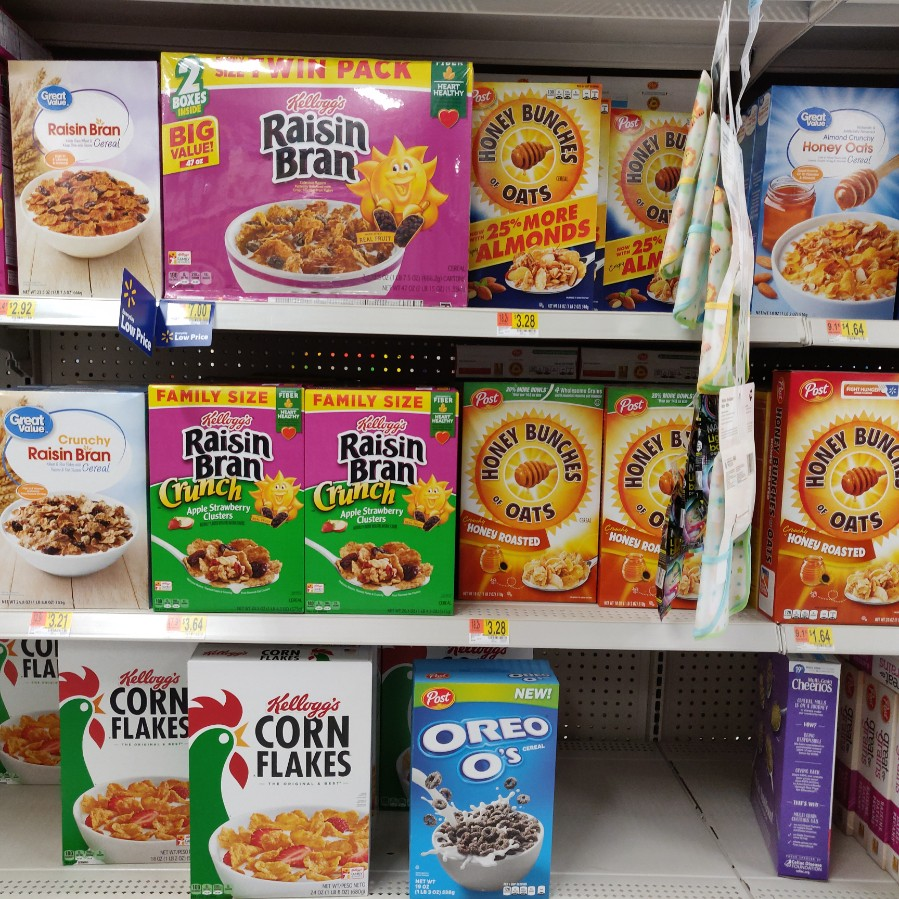Oreo-563424384: (403, 663, 559, 899)
